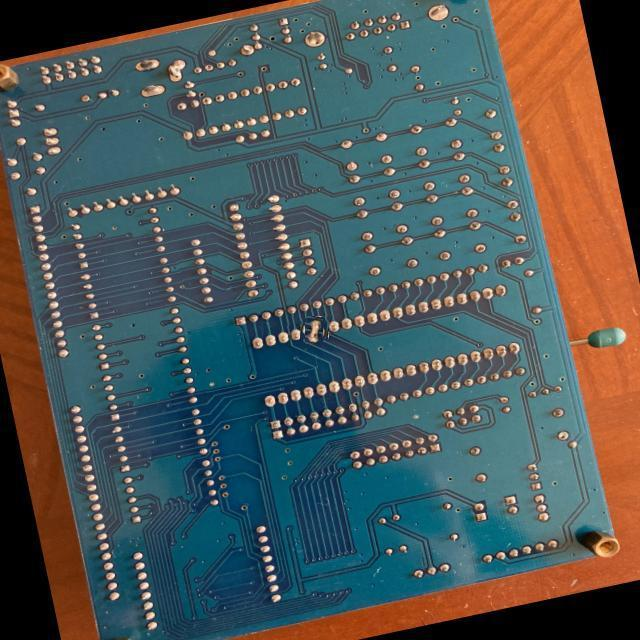damged: (303, 318, 326, 342)
